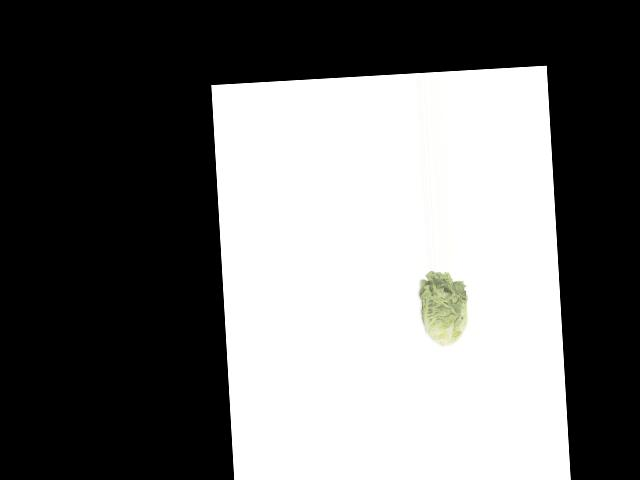lettuce: (414, 270, 474, 348)
